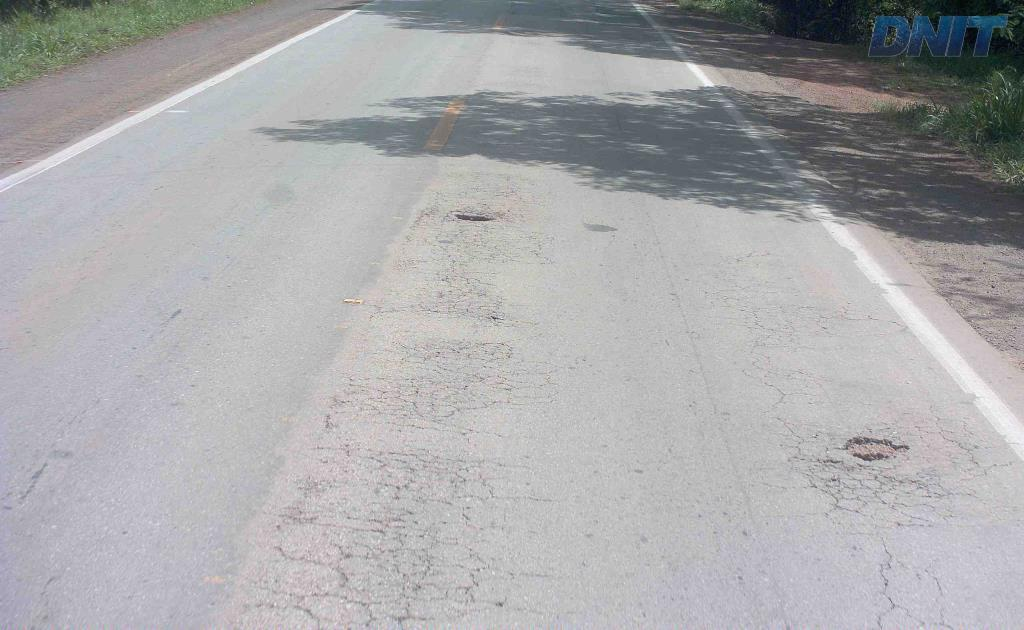crack: (778, 419, 953, 513), (387, 522, 447, 605), (435, 268, 516, 327), (331, 543, 374, 595)
pothole: (837, 427, 916, 464), (444, 208, 499, 224)
